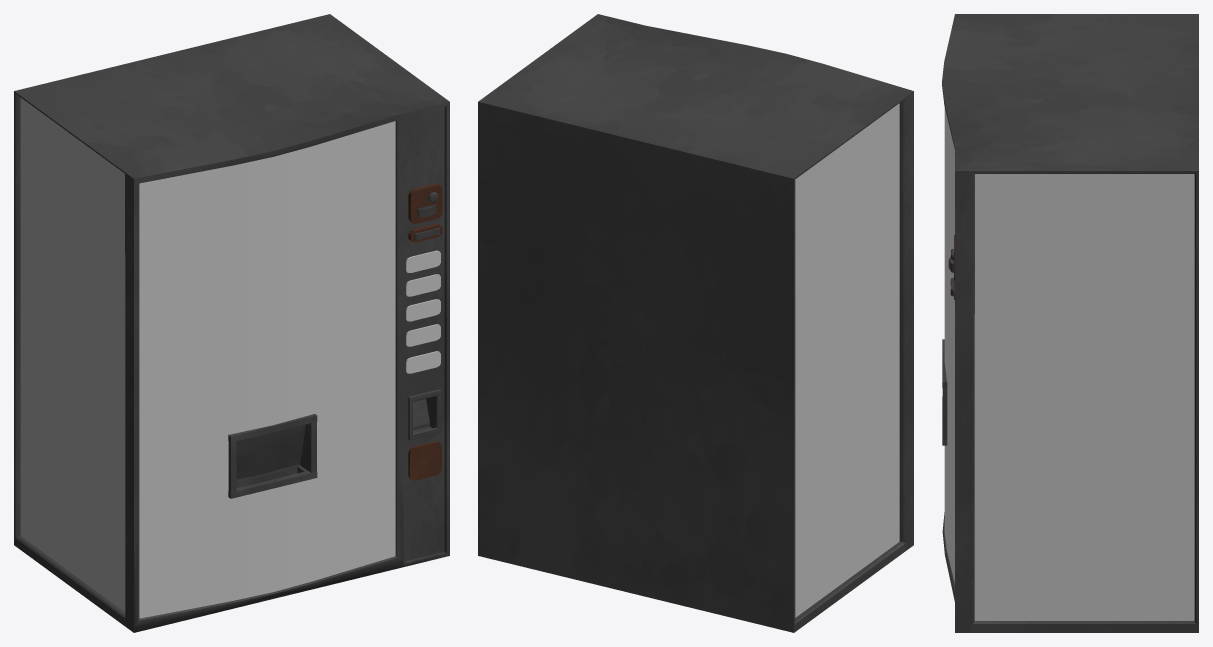
File: SM_VendingMachine_N.fbx
3 renders of one model, left to right at view 1: azimuth 30°, elevation 25°; view 2: azimuth 150°, elevation 25°; view 3: azimuth 270°, elevation 25°, orthographic.
Visible parts, largest first — view 1: VendingMachine_N; view 2: VendingMachine_N; view 3: VendingMachine_N.
Boxes of the visible parts, x1,y1,x2,y2 form: VendingMachine_N: [14, 14, 449, 632]; VendingMachine_N: [478, 14, 913, 632]; VendingMachine_N: [942, 14, 1198, 632].
Size of the model in its own units: 139 by 191 by 96.21.
